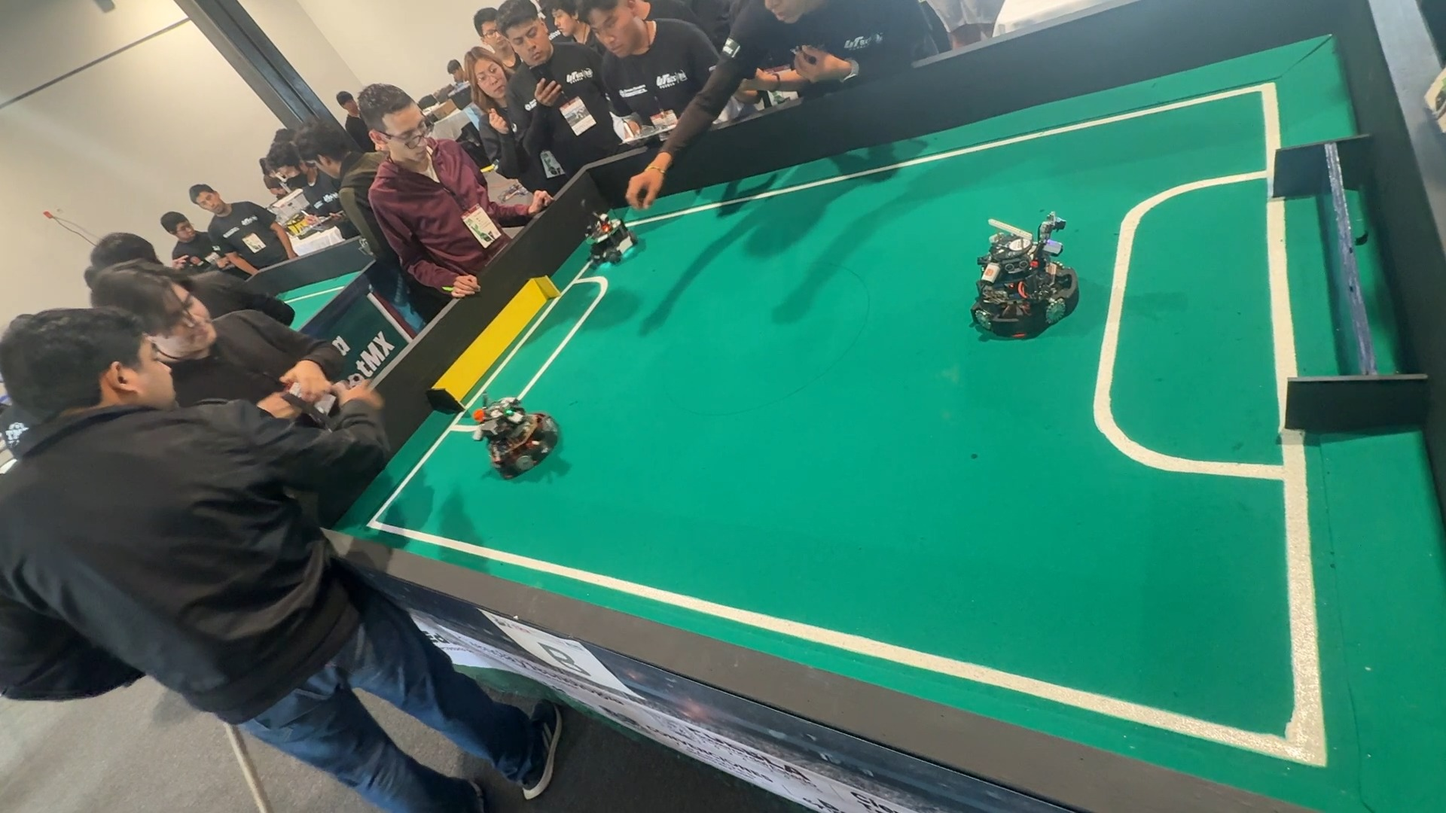Robot: (963, 202, 1089, 351), (464, 394, 558, 476), (585, 201, 641, 271)
